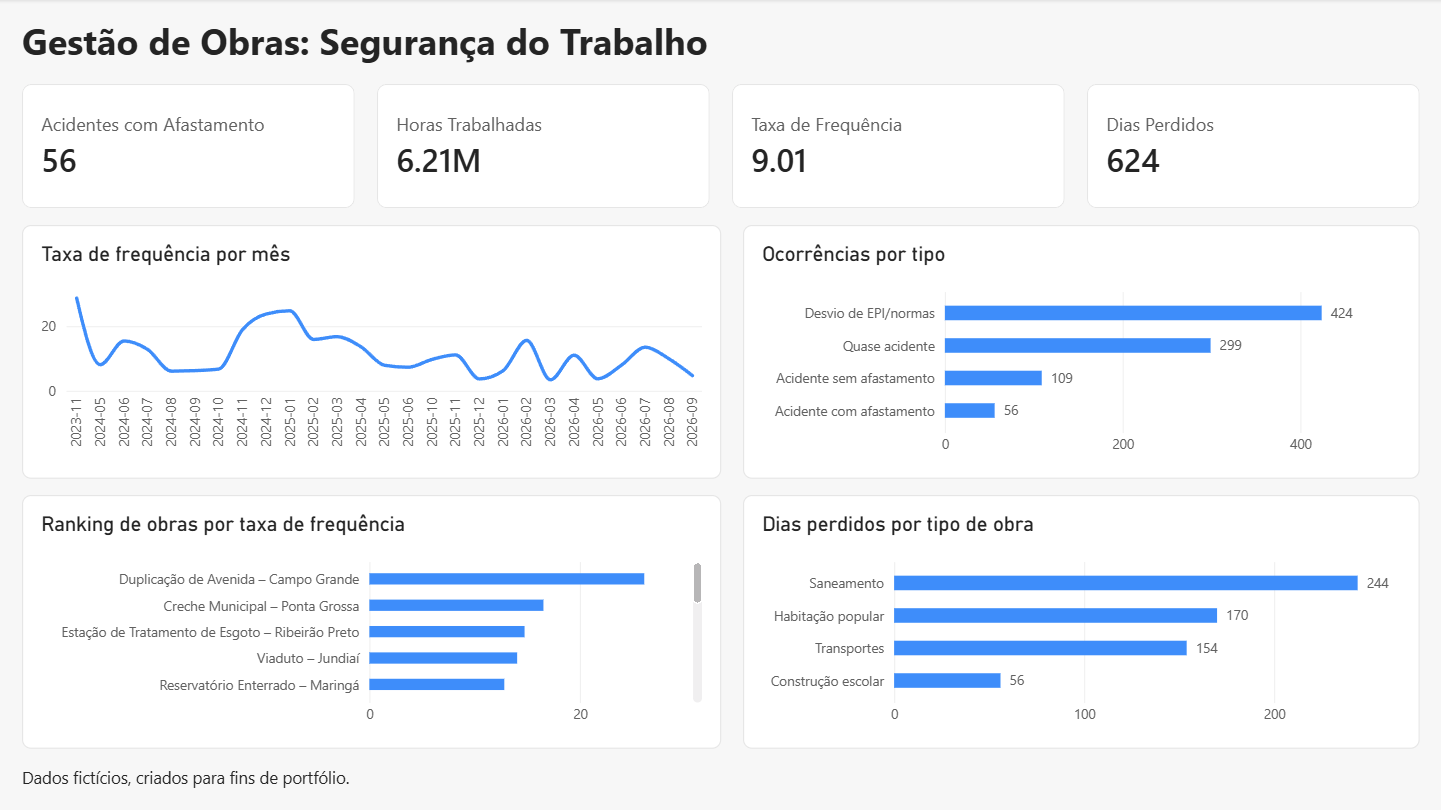

What the dashboard file says about the page in this screenshot:
{"tool":"powerbi","page":{"name":"Segurança do trabalho","canvas":[1280,720],"ordinal":2},"visuals":[{"type":"textbox","box":[20.4,15,800,45],"z":0},{"type":"textbox","box":[20,680,600,30],"z":1},{"type":"cardVisual","fields":{"Data":["_Medidas.Acidentes com Afastamento"]},"box":[20,75,295,110],"z":2},{"type":"cardVisual","fields":{"Data":["_Medidas.Horas Trabalhadas"]},"box":[335,75,295,110],"z":3},{"type":"cardVisual","fields":{"Data":["_Medidas.Taxa de Frequência"]},"box":[650,75,295,110],"z":4},{"type":"cardVisual","fields":{"Data":["_Medidas.Dias Perdidos"]},"box":[965,75,295,110],"z":5},{"type":"lineChart","title":"Taxa de frequência por mês","fields":{"Category":["dim_tempo.ano_mes"],"Y":["_Medidas.Taxa de Frequência"]},"box":[20,200,620,225],"z":6},{"type":"clusteredBarChart","title":"Ocorrências por tipo","fields":{"Category":["fato_seguranca.tipo_ocorrencia"],"Y":["_Medidas.Ocorrências"]},"box":[660,200,600,225],"z":7},{"type":"clusteredBarChart","title":"Ranking de obras por taxa de frequência","fields":{"Category":["dim_obra.nome_obra"],"Y":["_Medidas.Taxa de Frequência"]},"box":[20,440,620,225],"z":8},{"type":"clusteredBarChart","title":"Dias perdidos por tipo de obra","fields":{"Category":["dim_obra.tipo_obra"],"Y":["_Medidas.Dias Perdidos"]},"box":[660,440,600,225],"z":9}]}

Visuals, with their boxes in screenshot pixels (x1, y1, x2, y2), scaled from the page's 1280x720 canvas onto the 1441x810 screenshot:
textbox: bbox(23, 17, 924, 68)
textbox: bbox(23, 765, 698, 799)
cardVisual - _Medidas.Acidentes com Afastamento: bbox(23, 84, 355, 208)
cardVisual - _Medidas.Horas Trabalhadas: bbox(377, 84, 709, 208)
cardVisual - _Medidas.Taxa de Frequência: bbox(732, 84, 1064, 208)
cardVisual - _Medidas.Dias Perdidos: bbox(1086, 84, 1418, 208)
"Taxa de frequência por mês" lineChart: bbox(23, 225, 720, 478)
"Ocorrências por tipo" clusteredBarChart: bbox(743, 225, 1418, 478)
"Ranking de obras por taxa de frequência" clusteredBarChart: bbox(23, 495, 720, 748)
"Dias perdidos por tipo de obra" clusteredBarChart: bbox(743, 495, 1418, 748)
